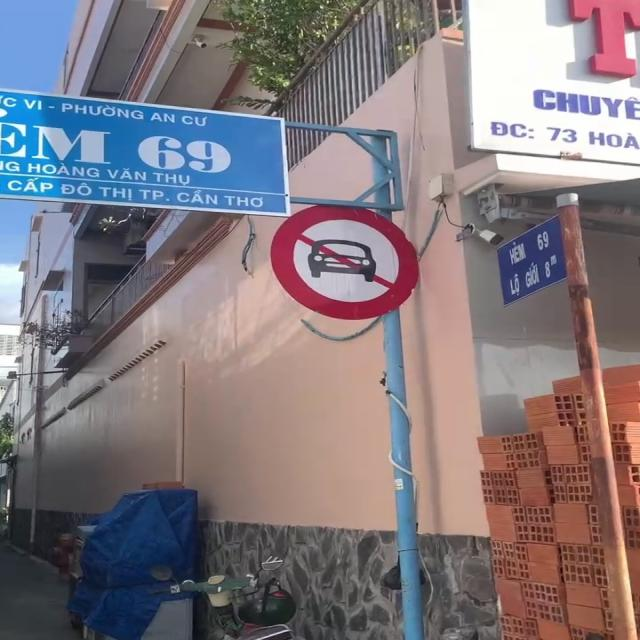Cam_O_To: (272, 200, 420, 318)
